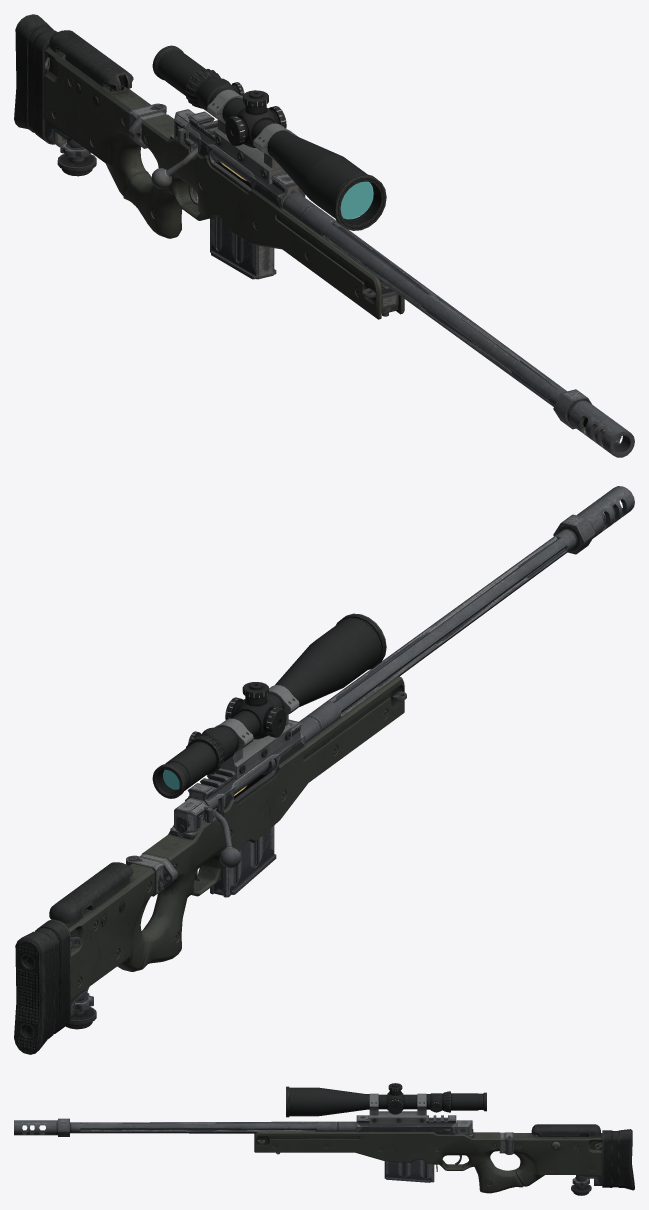
The model's file is sniper.glb.
3 renders of one model, top to bottom at view 1: azimuth 30°, elevation 25°; view 2: azimuth 150°, elevation 25°; view 3: azimuth 270°, elevation 25°, orthographic. The views are drawn at different scales.
Parts seen in each view (by area): view 1: base, scope, mag, bolt; view 2: base, scope, mag, boltback, bolt; view 3: base, scope, mag, boltback.
Boxes of the visible parts, x1=… form: base: x1=14, y1=14, x2=634, y2=457; scope: x1=152, y1=45, x2=386, y2=230; mag: x1=210, y1=216, x2=276, y2=279; bolt: x1=151, y1=132, x2=252, y2=189; base: x1=14, y1=486, x2=634, y2=1054; scope: x1=152, y1=613, x2=386, y2=798; mag: x1=210, y1=825, x2=276, y2=897; boltback: x1=174, y1=797, x2=212, y2=835; bolt: x1=208, y1=759, x2=275, y2=867; base: x1=14, y1=1115, x2=634, y2=1195; scope: x1=286, y1=1083, x2=486, y2=1124; mag: x1=384, y1=1159, x2=434, y2=1182; boltback: x1=456, y1=1120, x2=473, y2=1135.
Size of the model in its own units: 11.2 by 32.24 by 168.
Materials: 1 (1 with a texture image).
